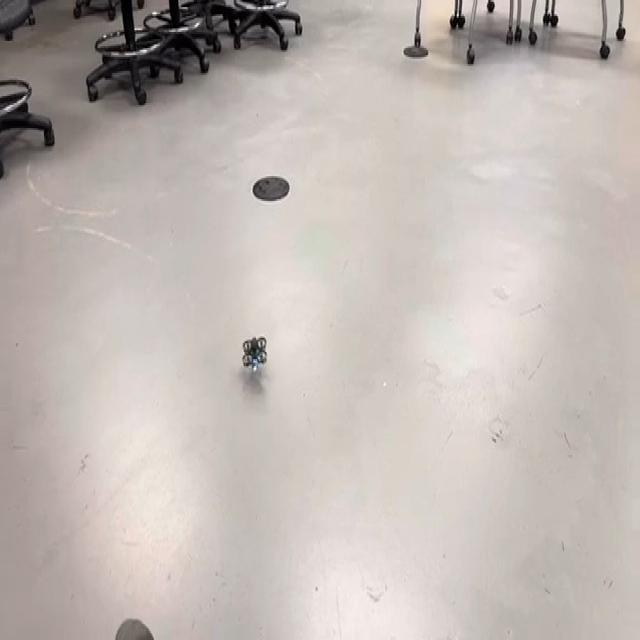drone: (236, 321, 276, 392)
